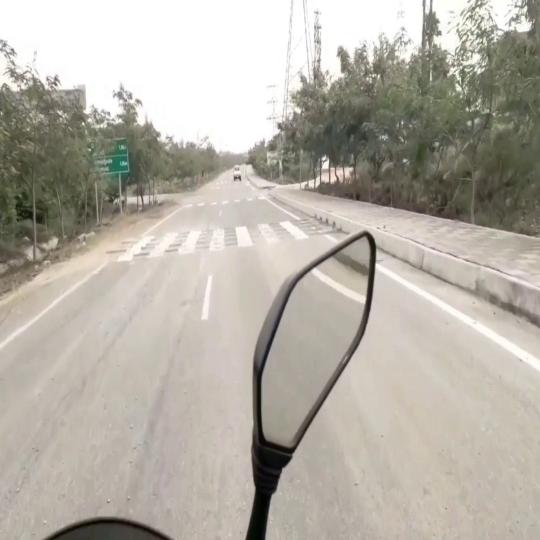Speed Bump: (105, 218, 310, 265)
